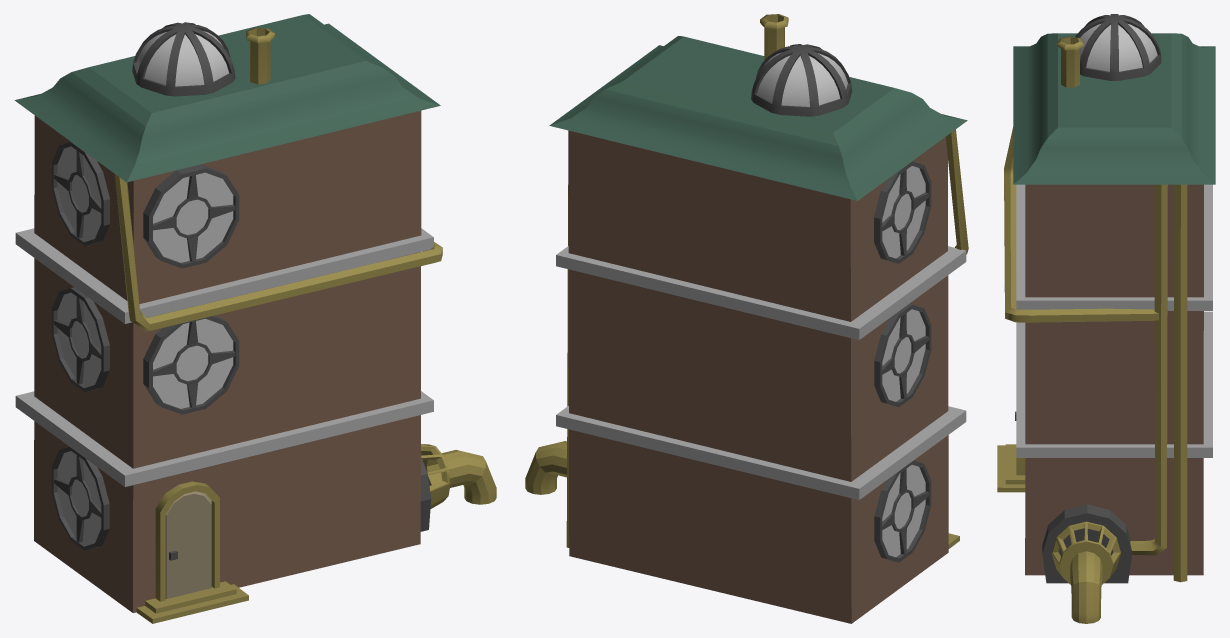
Rendered from Tower.fbx.
The picture shows the model from 3 angles, left to right: view 1: azimuth 30°, elevation 25°; view 2: azimuth 150°, elevation 25°; view 3: azimuth 270°, elevation 25°; orthographic projection. The views are drawn at different scales.
Parts seen in each view (by area): view 1: Tower; view 2: Tower; view 3: Tower.
Boxes of the visible parts, x1,y1,x2,y2 form: Tower: (14, 14, 496, 623); Tower: (525, 14, 968, 623); Tower: (997, 14, 1215, 623).
Bounding box in the file's own units: 13.66 × 16.88 × 7.02.
